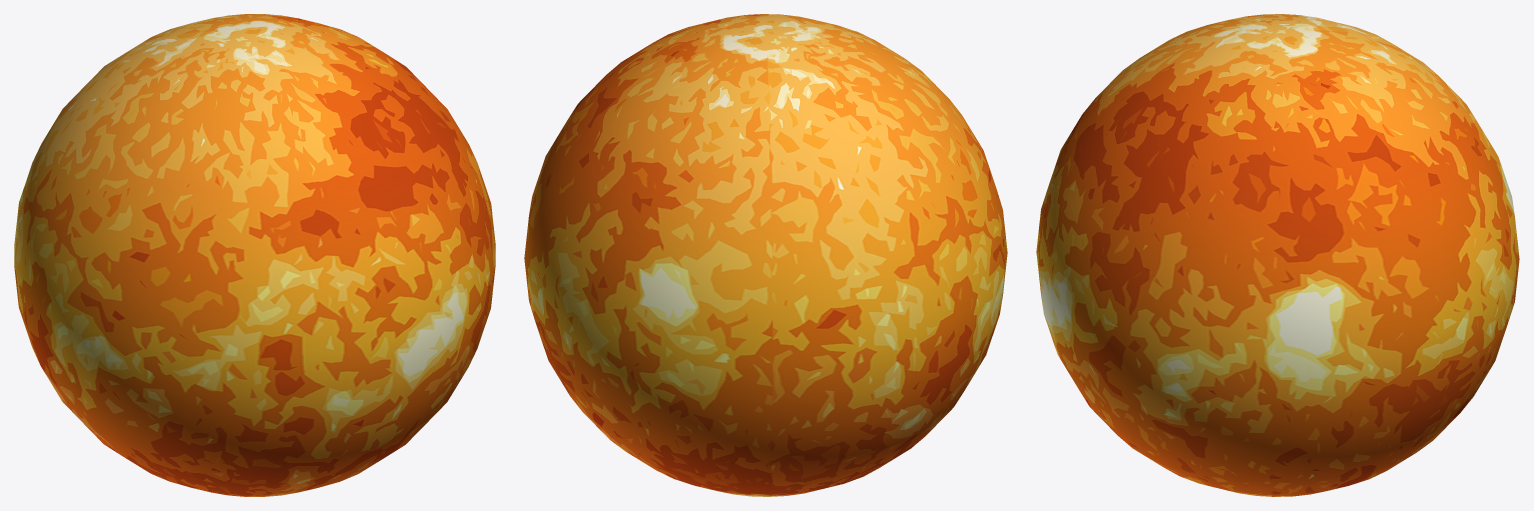
File: StylizedSun2kTextures.dae
3 views of the same model, side by side, from view 1: azimuth 30°, elevation 25°; view 2: azimuth 150°, elevation 25°; view 3: azimuth 270°, elevation 25° (orthographic).
Parts seen in each view (by area): view 1: Sun; view 2: Sun; view 3: Sun.
Part boxes in pixels (x1,y1,x2,y2): Sun: (14, 14, 495, 496); Sun: (524, 14, 1007, 496); Sun: (1036, 14, 1519, 496).
Size of the model in its own units: 8.85 by 8.85 by 8.85.
1 material, 1 textured.
